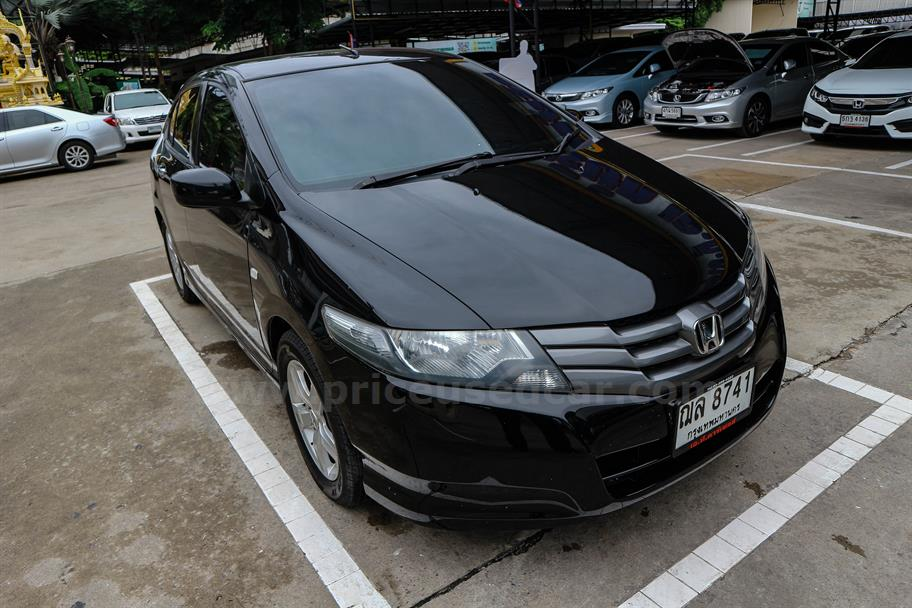sedan: (148, 43, 791, 532)
